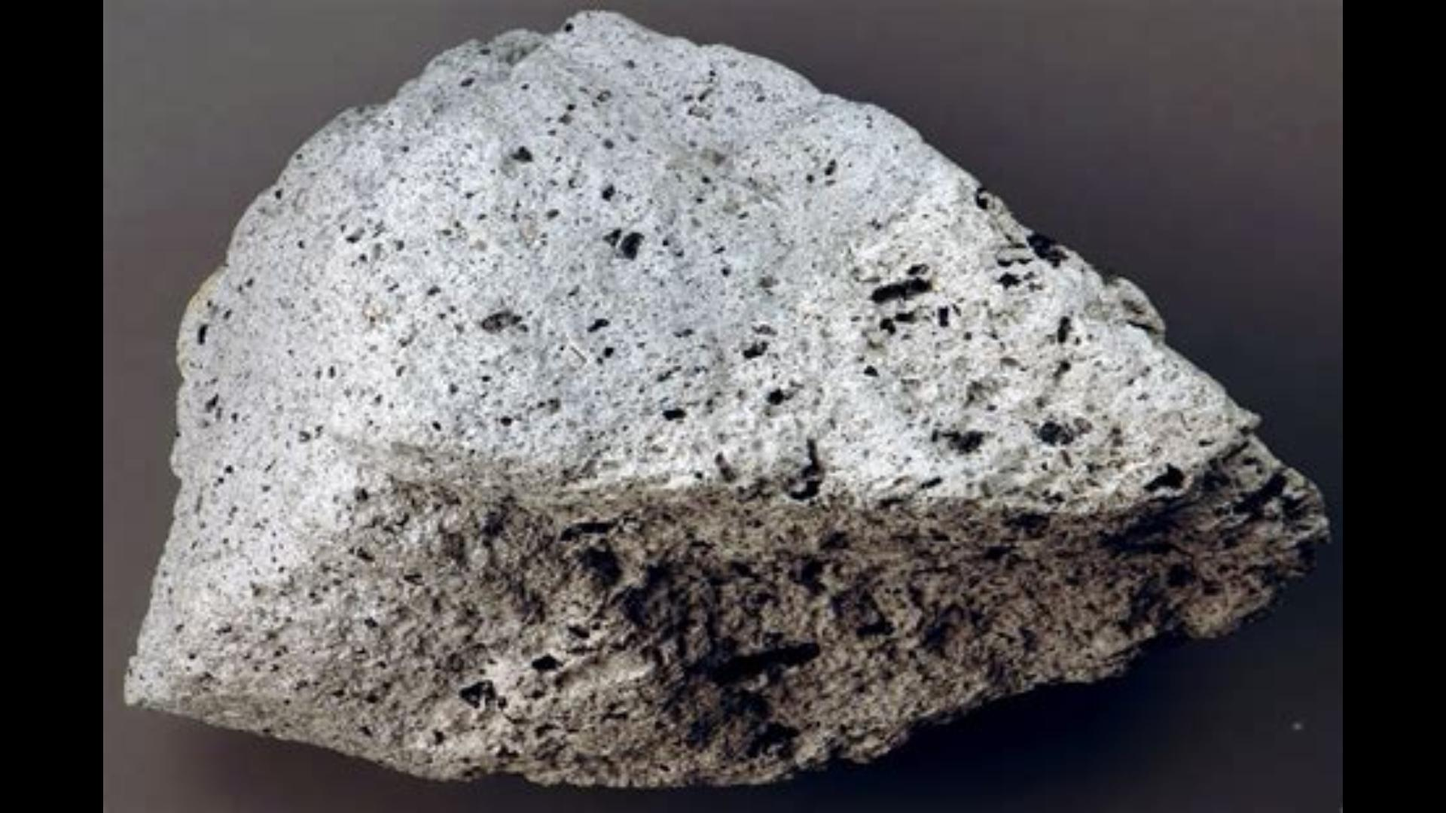rock: (124, 13, 1327, 782)
